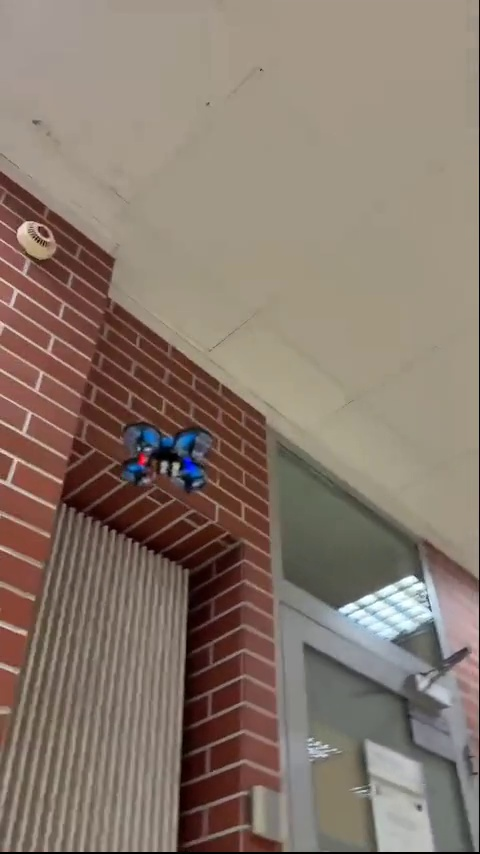drone: (119, 423, 212, 493)
